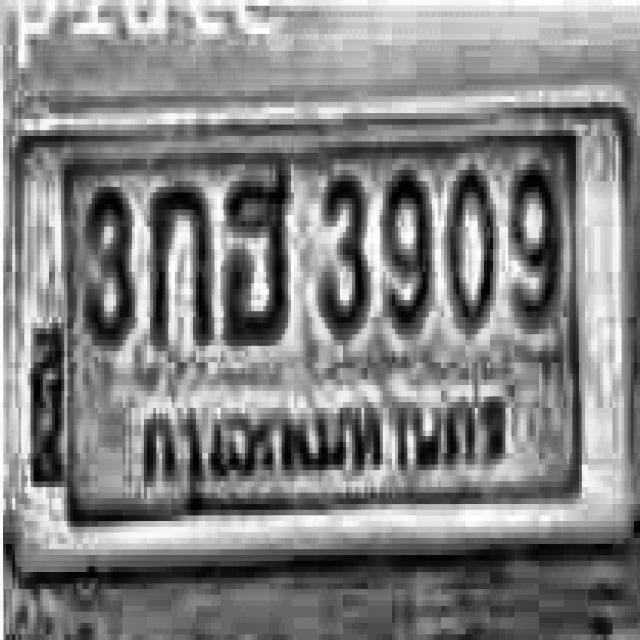license-plate: (3, 84, 640, 560)
